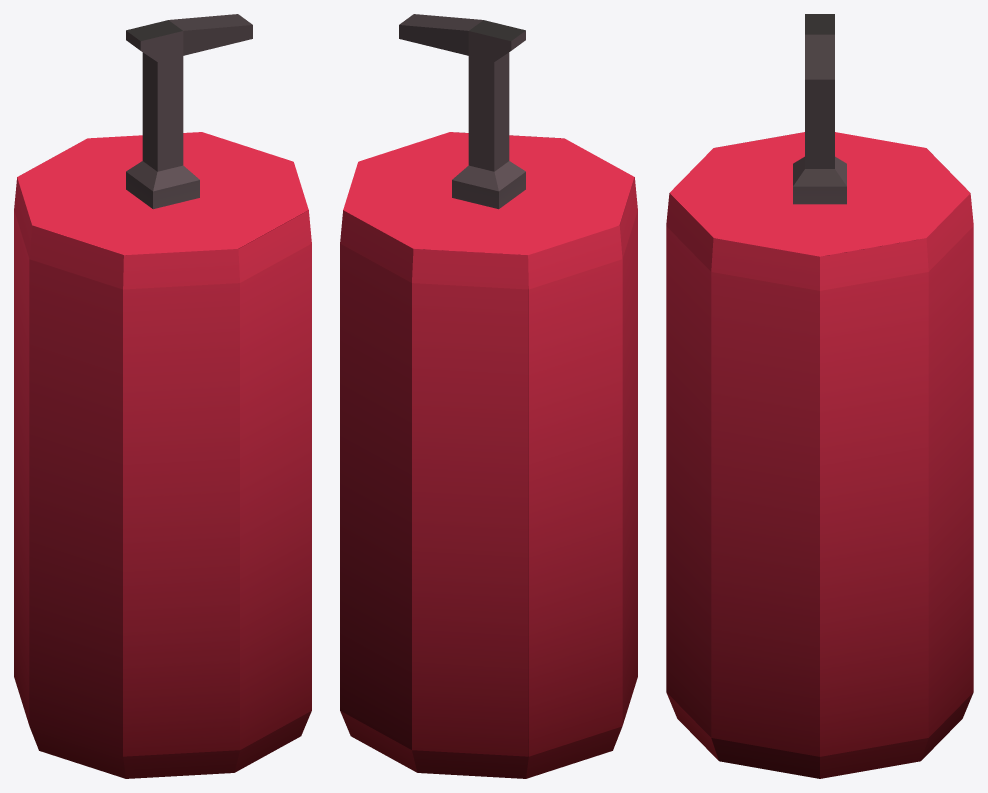
Rendered from Shampooglb.glb.
3 renders of one model, left to right at view 1: azimuth 30°, elevation 25°; view 2: azimuth 150°, elevation 25°; view 3: azimuth 270°, elevation 25°, orthographic.
Visible parts, largest first — view 1: Cylinder, Cube; view 2: Cylinder, Cube; view 3: Cylinder, Cube.
Boxes of the visible parts, box(x1,y1,x2,y2) form: Cylinder: box(14, 132, 311, 778); Cube: box(126, 14, 252, 209); Cylinder: box(340, 132, 637, 778); Cube: box(399, 14, 525, 209); Cylinder: box(666, 132, 973, 778); Cube: box(793, 14, 846, 204).
Bounding box in the file's own units: 2 × 4.95 × 2.
2 materials, 2 textured.
